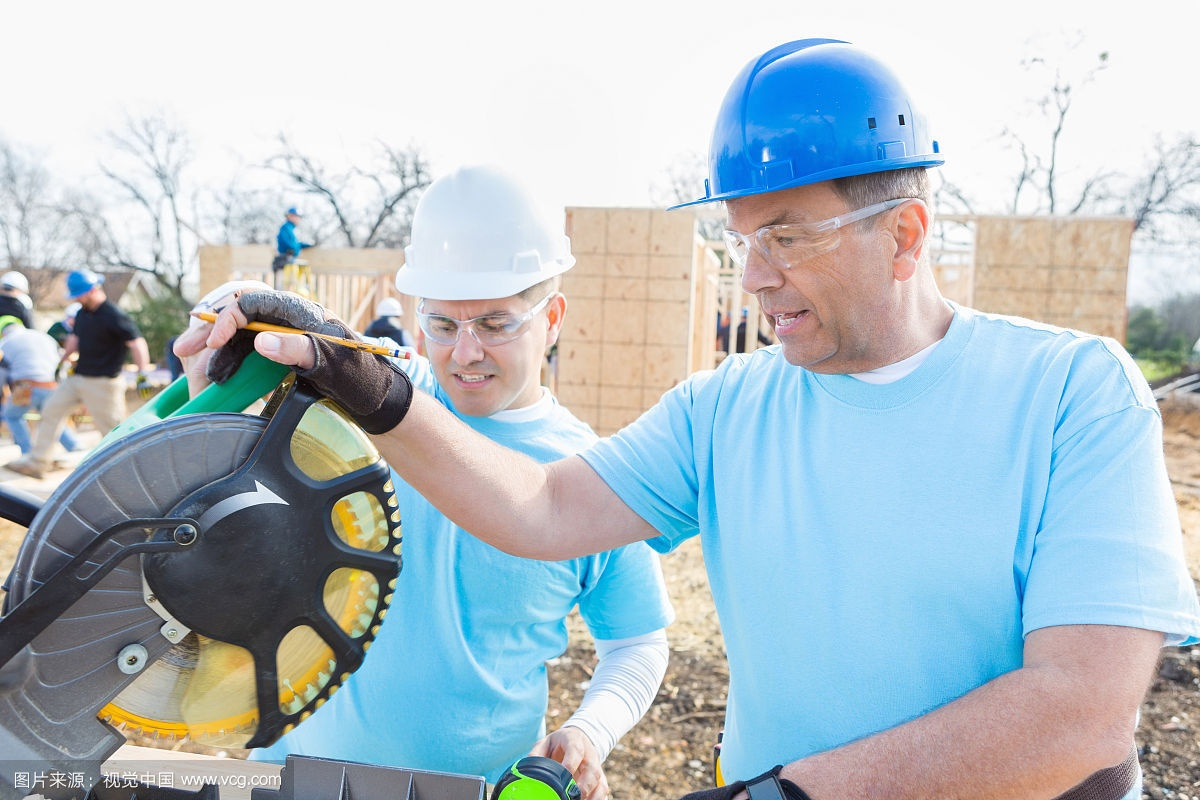blue: (682, 26, 967, 372), (60, 263, 105, 312), (284, 203, 305, 228)
white: (391, 157, 578, 416), (3, 269, 31, 299)
